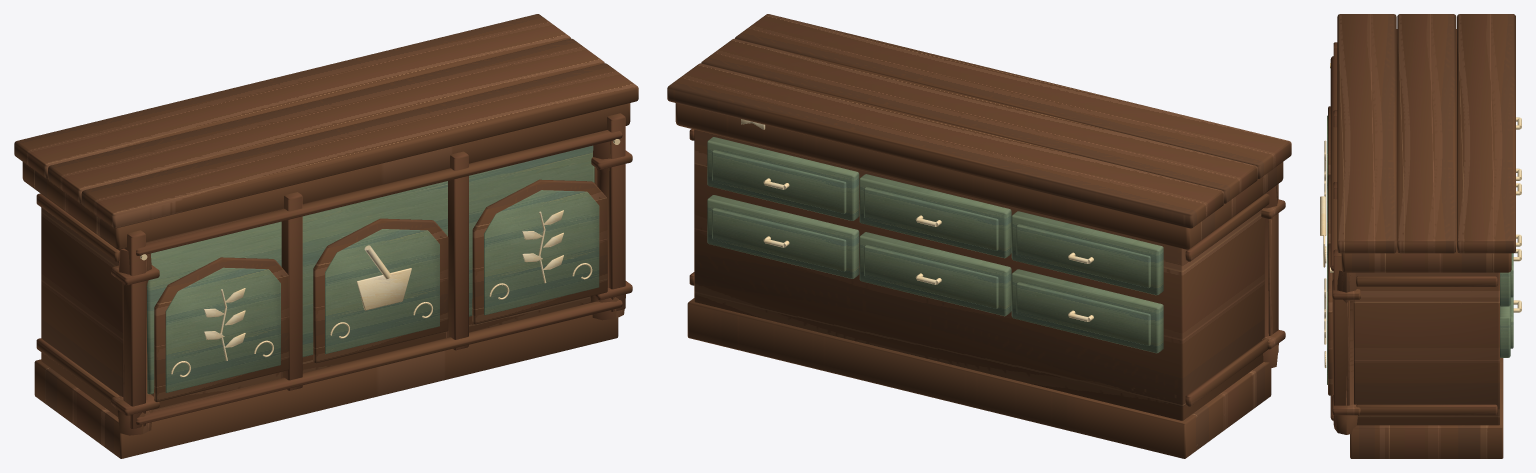
The model's file is CM_HR02_CounterCraft.fbx.
3 views of the same model, side by side, from view 1: azimuth 30°, elevation 25°; view 2: azimuth 150°, elevation 25°; view 3: azimuth 270°, elevation 25° (orthographic). The views are drawn at different scales.
Visible parts, largest first — view 1: CM_HR02_CounterCraft; view 2: CM_HR02_CounterCraft; view 3: CM_HR02_CounterCraft.
Boxes of the visible parts, <box> form: CM_HR02_CounterCraft: <box>14,14,638,458</box>; CM_HR02_CounterCraft: <box>667,14,1291,458</box>; CM_HR02_CounterCraft: <box>1320,14,1521,458</box>.
Size of the model in its own units: 2.28 by 1.05 by 0.855.
